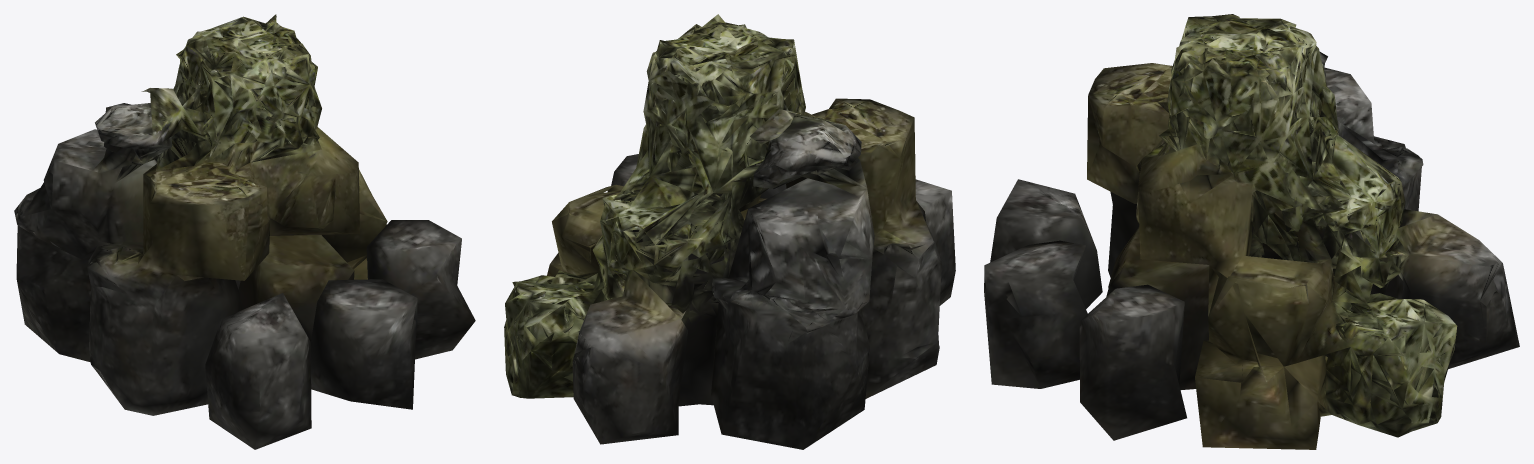
The model's file is xd_supply.glb.
The picture shows the model from 3 angles, left to right: view 1: azimuth 30°, elevation 25°; view 2: azimuth 150°, elevation 25°; view 3: azimuth 270°, elevation 25°; orthographic projection. The views are drawn at different scales.
Parts seen in each view (by area): view 1: tripo_node_8dcd3f78-b692-4fb9-8d15-330e195335fd; view 2: tripo_node_8dcd3f78-b692-4fb9-8d15-330e195335fd; view 3: tripo_node_8dcd3f78-b692-4fb9-8d15-330e195335fd.
Part boxes in pixels (left/top/right/bottom): tripo_node_8dcd3f78-b692-4fb9-8d15-330e195335fd: left=14, top=14, right=475, bottom=449; tripo_node_8dcd3f78-b692-4fb9-8d15-330e195335fd: left=504, top=14, right=955, bottom=449; tripo_node_8dcd3f78-b692-4fb9-8d15-330e195335fd: left=984, top=14, right=1519, bottom=449.
Bounding box in the file's own units: 0.7914 × 0.6927 × 1.
1 material, 1 textured.
